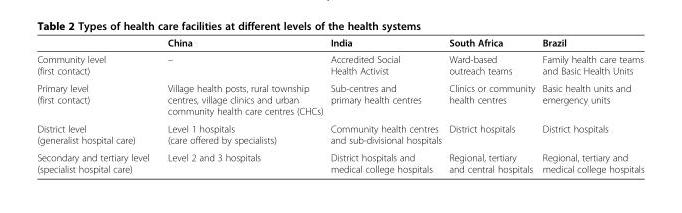table: (36, 36, 643, 174)
table column: (157, 36, 326, 174), (36, 36, 157, 174), (326, 36, 444, 174), (538, 36, 643, 174), (444, 36, 538, 174)
table column header: (36, 36, 643, 50)
table row: (36, 79, 643, 119), (36, 50, 643, 79), (36, 119, 643, 148), (36, 148, 643, 174), (36, 36, 643, 50)
